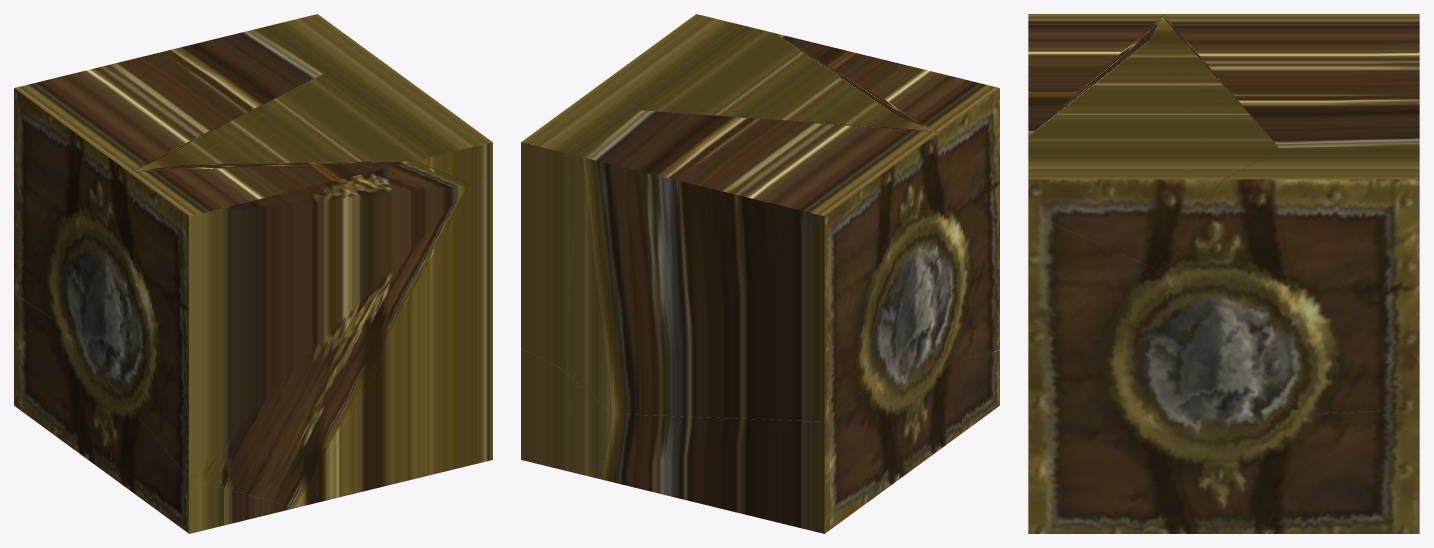
The model's file is Item4Break.fbx.
The picture shows the model from 3 angles, left to right: view 1: azimuth 30°, elevation 25°; view 2: azimuth 150°, elevation 25°; view 3: azimuth 270°, elevation 25°; orthographic projection. The views are drawn at different scales.
Parts seen in each view (by area): view 1: item4_cell.002, item4_cell.004, item4_cell.001, item4_cell.003, item4_cell.006, item4_cell, item4_cell.005; view 2: item4_cell.004, item4_cell.006, item4_cell.002, item4_cell.003, item4_cell.005, item4_cell.007, item4_cell; view 3: item4_cell.001, item4_cell.005, item4_cell.003, item4_cell.004, item4_cell.007, item4_cell.002.
Boxes of the visible parts, x1=… form: item4_cell.002: x1=94, y1=161, x2=470, y2=507; item4_cell.004: x1=14, y1=29, x2=324, y2=344; item4_cell.001: x1=307, y1=172, x2=492, y2=505; item4_cell.003: x1=187, y1=73, x2=492, y2=184; item4_cell.006: x1=14, y1=293, x2=112, y2=477; item4_cell: x1=105, y1=378, x2=294, y2=533; item4_cell.005: x1=257, y1=14, x2=404, y2=78; item4_cell.004: x1=562, y1=110, x2=939, y2=421; item4_cell.006: x1=600, y1=357, x2=923, y2=533; item4_cell.002: x1=774, y1=33, x2=999, y2=371; item4_cell.003: x1=609, y1=14, x2=893, y2=114; item4_cell.005: x1=521, y1=78, x2=637, y2=368; item4_cell.007: x1=521, y1=348, x2=610, y2=478; item4_cell: x1=916, y1=350, x2=999, y2=461; item4_cell.001: x1=1028, y1=213, x2=1309, y2=533; item4_cell.005: x1=1152, y1=146, x2=1419, y2=413; item4_cell.003: x1=1028, y1=42, x2=1279, y2=266; item4_cell.004: x1=1149, y1=14, x2=1419, y2=149; item4_cell.007: x1=1266, y1=409, x2=1419, y2=533; item4_cell.002: x1=1028, y1=14, x2=1163, y2=136.
Size of the model in its own units: 313 by 313 by 313.
